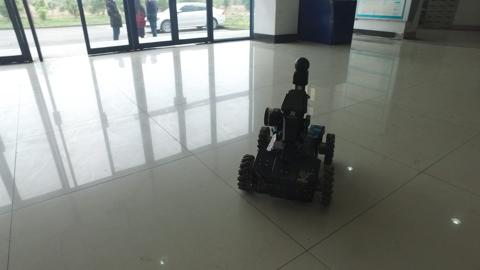car: (144, 1, 226, 33)
chariot: (236, 54, 337, 209)
